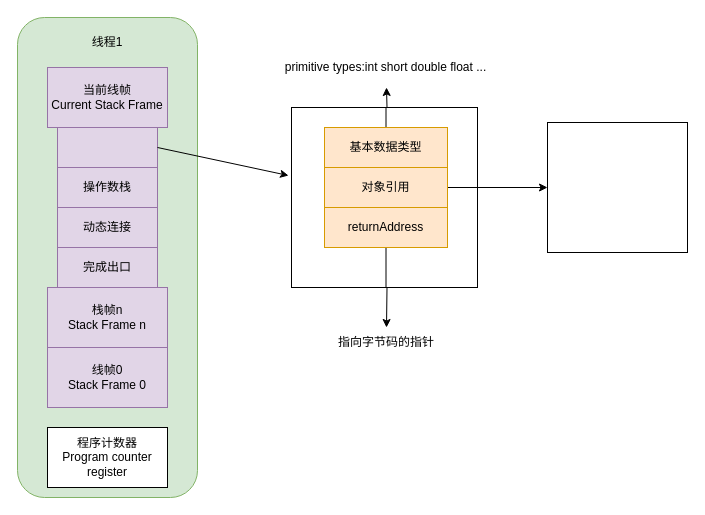
The diagram is 705 pixels wide and 515 high, and some of its shapes have lost their labels. The box of each missing label's shape, as (x1, y1, x2, y2) in pixels:
堆 Heap: (546, 122, 688, 252)
局部变量表: (56, 126, 158, 168)
